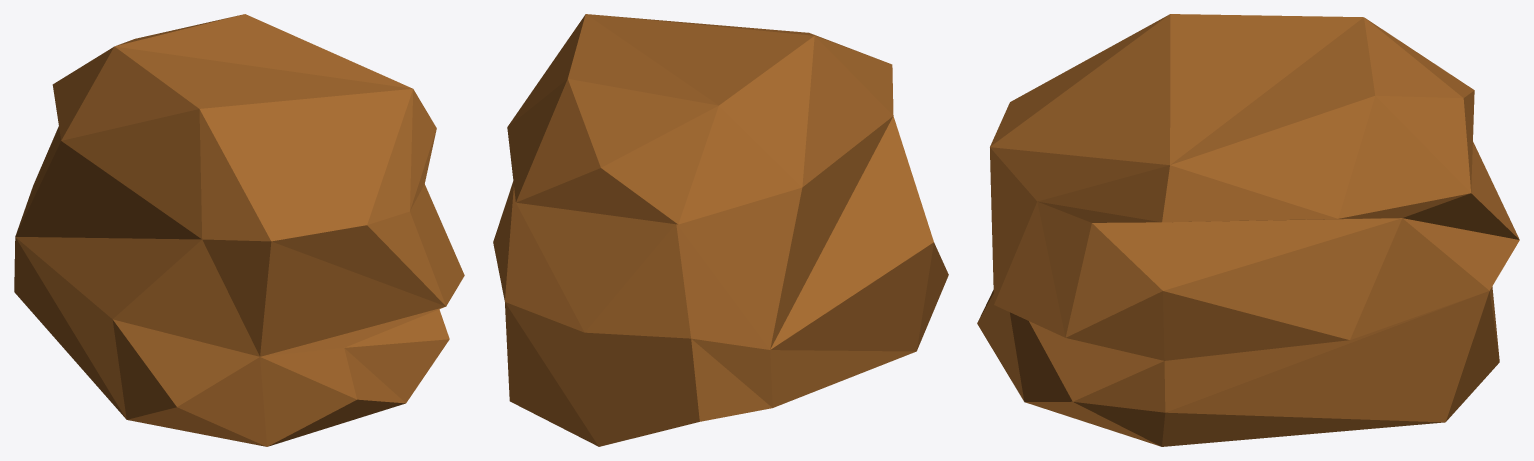
Rendered from deco_autumn_2.glb.
3 views of the same model, side by side, from view 1: azimuth 30°, elevation 25°; view 2: azimuth 150°, elevation 25°; view 3: azimuth 270°, elevation 25° (orthographic). The views are drawn at different scales.
Visible parts, largest first — view 1: lod0; view 2: lod0; view 3: lod0.
Boxes of the visible parts, bbox=[...] form: lod0: bbox=[14, 14, 464, 446]; lod0: bbox=[493, 14, 948, 446]; lod0: bbox=[977, 14, 1519, 446].
Size of the model in its own units: 1.18 by 1.04 by 1.5.
